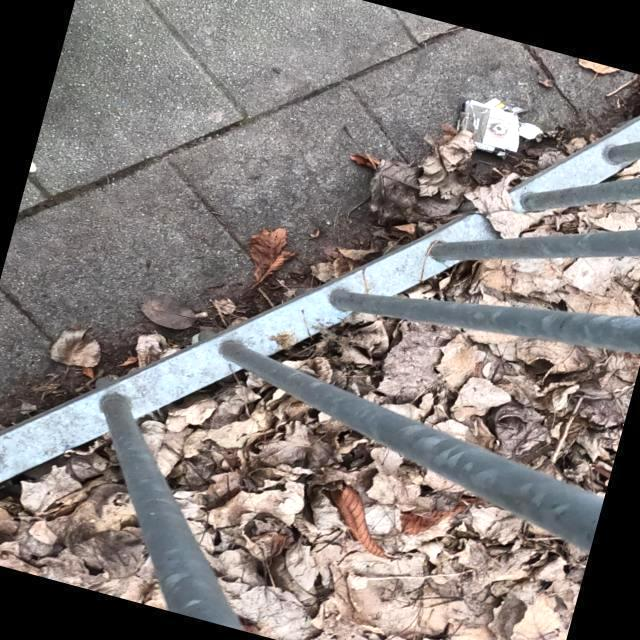Paper: (454, 95, 544, 161)
